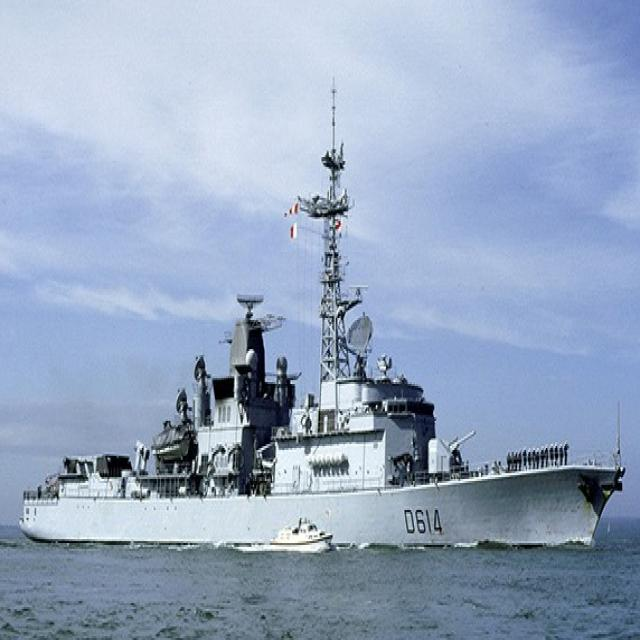navalvessels: (10, 106, 629, 562)
